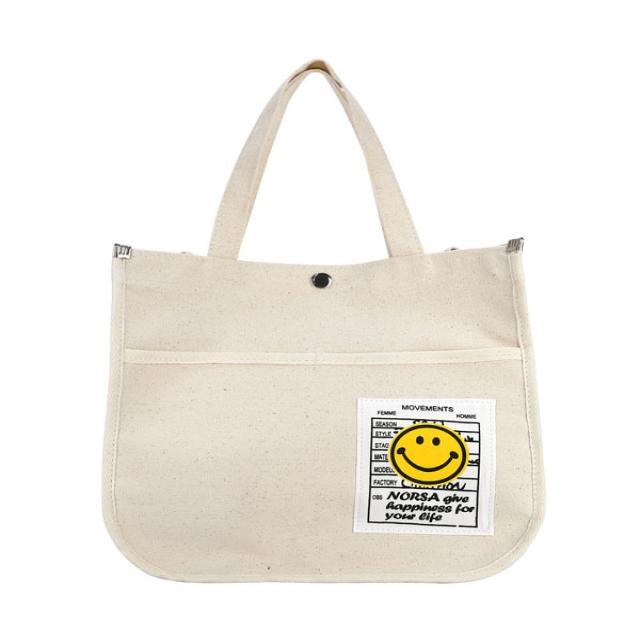ecobag: (74, 43, 559, 608)
